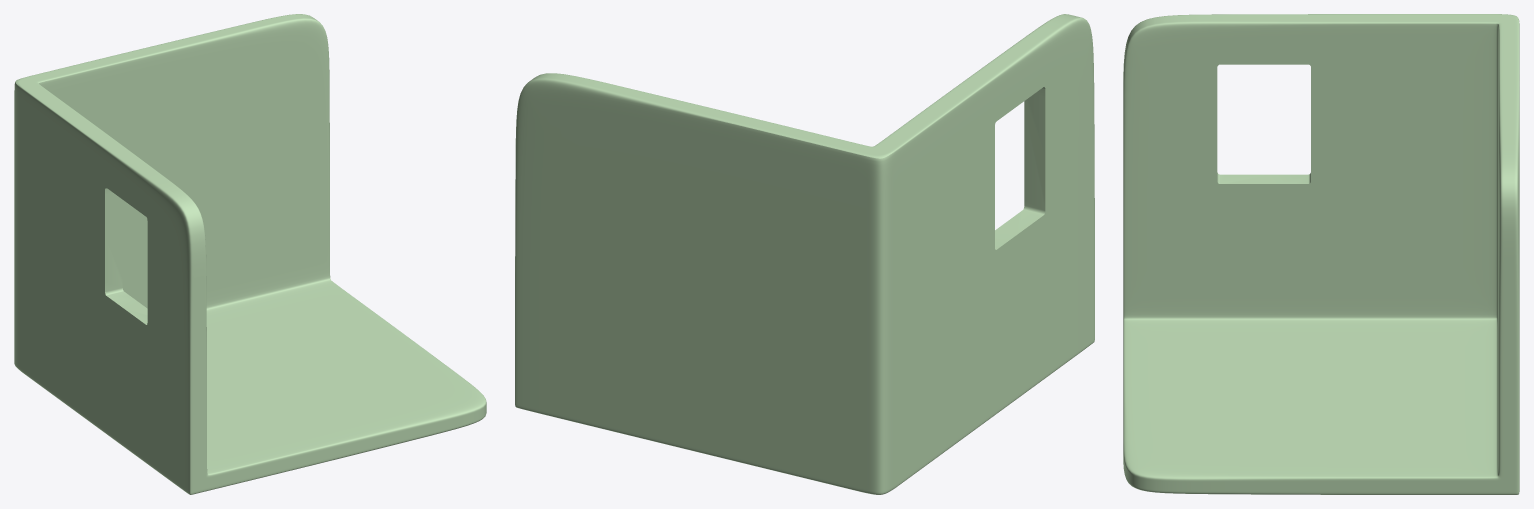
File: room-green.glb
3 views of the same model, side by side, from view 1: azimuth 30°, elevation 25°; view 2: azimuth 150°, elevation 25°; view 3: azimuth 270°, elevation 25° (orthographic). The views are drawn at different scales.
Visible parts, largest first — view 1: Boolean; view 2: Boolean; view 3: Boolean.
Part boxes in pixels (box(x1,y1,x2,y2)): Boolean: box(14, 14, 486, 494); Boolean: box(515, 14, 1094, 494); Boolean: box(1123, 14, 1519, 494).
Bounding box in the file's own units: 8.12 × 7.12 × 8.12.
